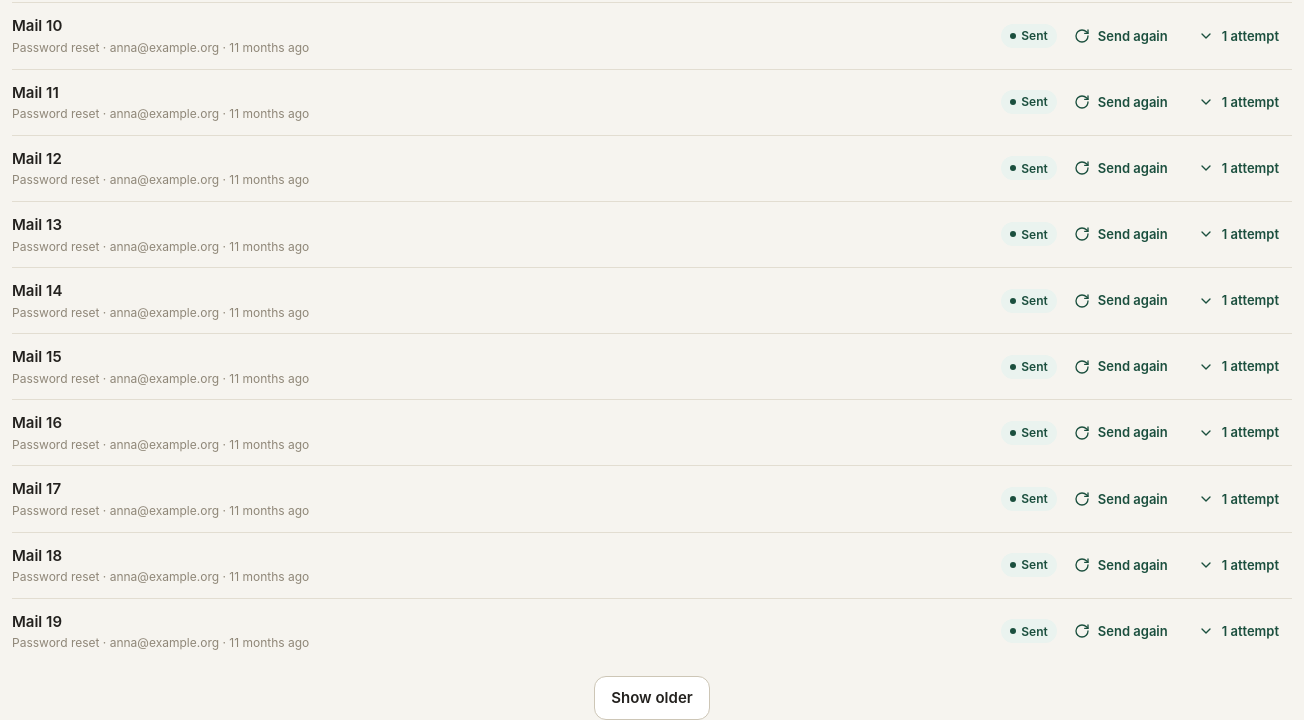
it: MailLog › shows older mail a page at a time
(page scrolled)
Click the button "Show older" at (652, 698), box [594,676,710,719]
(page scrolled)
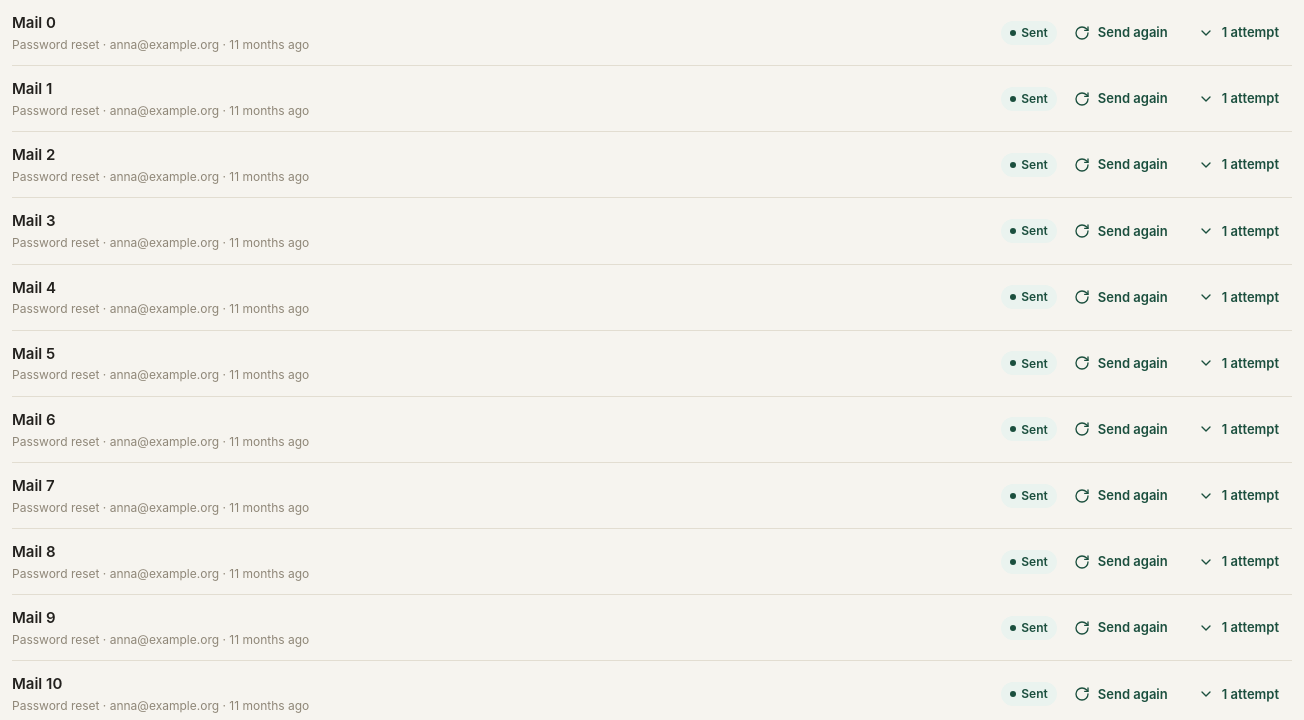
Check: the text "Mail 0" is shown, box [12,13,56,32]
Check: the button "Show older" is gone
